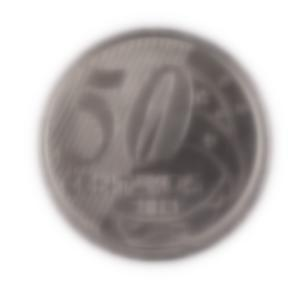50 cent: (37, 25, 271, 261)
